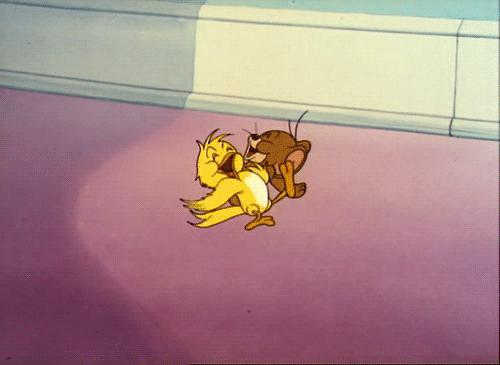jerry: (241, 109, 313, 206)
